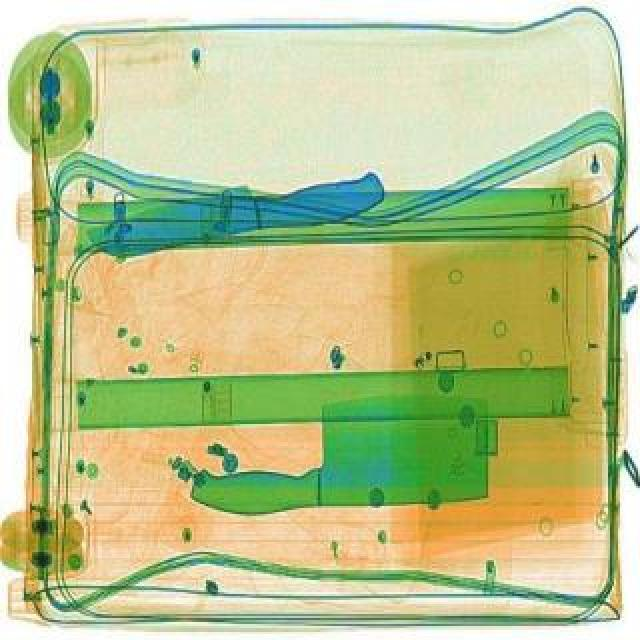knife: (184, 388, 494, 514), (82, 160, 390, 266)
